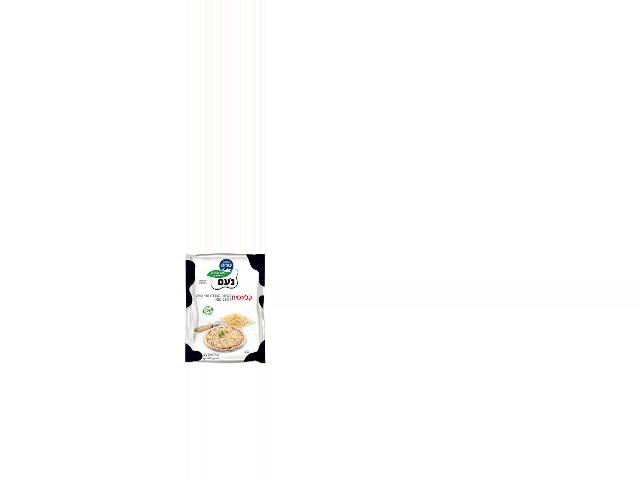cheese: (183, 253, 267, 365)
